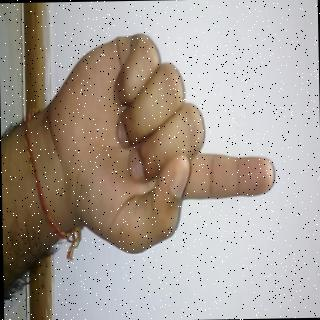I: (45, 32, 279, 258)
